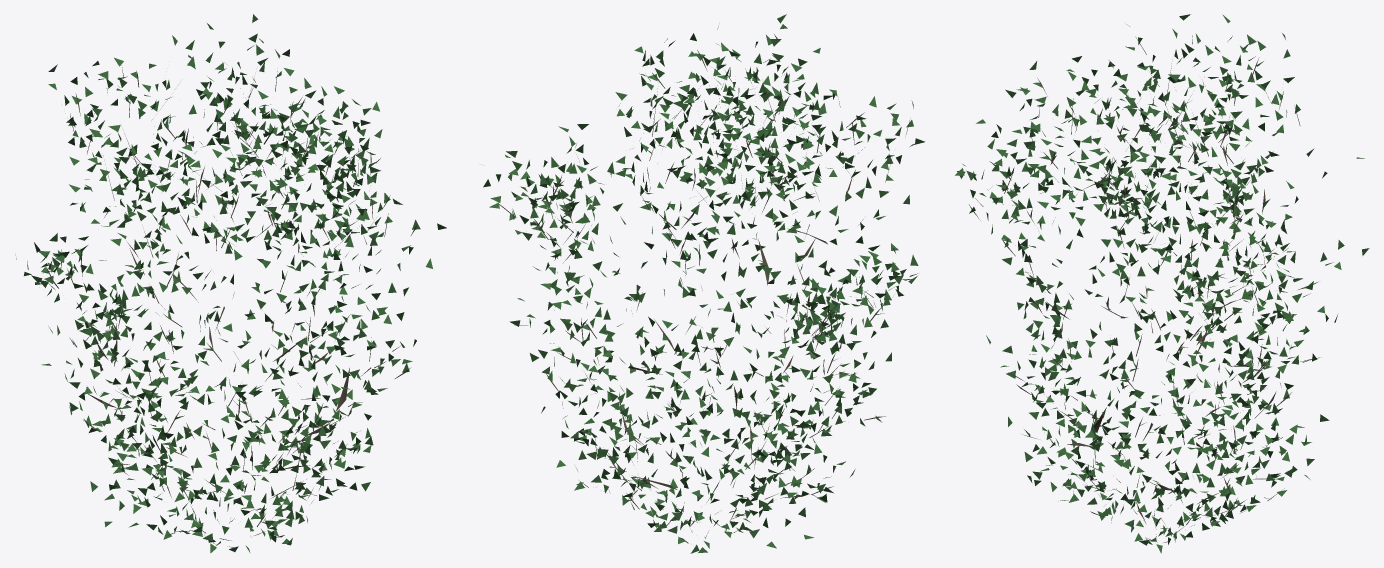
File: shrub_box.glb
3 renders of one model, left to right at view 1: azimuth 30°, elevation 25°; view 2: azimuth 150°, elevation 25°; view 3: azimuth 270°, elevation 25°, orthographic. The views are drawn at different scales.
Visible parts, largest first — view 1: bq_Shrub_Buxus-sempervirens_C_spring-summer-autumn, bq_Shrub_Buxus-sempervirens_C_spring-summer-autumn.001; view 2: bq_Shrub_Buxus-sempervirens_C_spring-summer-autumn, bq_Shrub_Buxus-sempervirens_C_spring-summer-autumn.001; view 3: bq_Shrub_Buxus-sempervirens_C_spring-summer-autumn, bq_Shrub_Buxus-sempervirens_C_spring-summer-autumn.001.
Boxes of the visible parts, x1,y1,x2,y2 form: bq_Shrub_Buxus-sempervirens_C_spring-summer-autumn: [15, 14, 446, 553]; bq_Shrub_Buxus-sempervirens_C_spring-summer-autumn.001: [45, 65, 417, 547]; bq_Shrub_Buxus-sempervirens_C_spring-summer-autumn: [483, 14, 924, 553]; bq_Shrub_Buxus-sempervirens_C_spring-summer-autumn.001: [499, 50, 909, 543]; bq_Shrub_Buxus-sempervirens_C_spring-summer-autumn: [955, 14, 1369, 553]; bq_Shrub_Buxus-sempervirens_C_spring-summer-autumn.001: [969, 36, 1321, 542].
Size of the model in its own units: 1.17 by 1.48 by 1.16.
